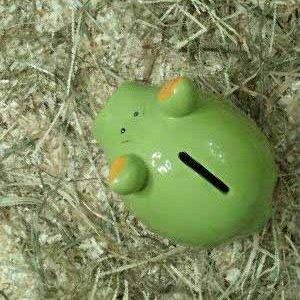piggy: (92, 76, 277, 248)
